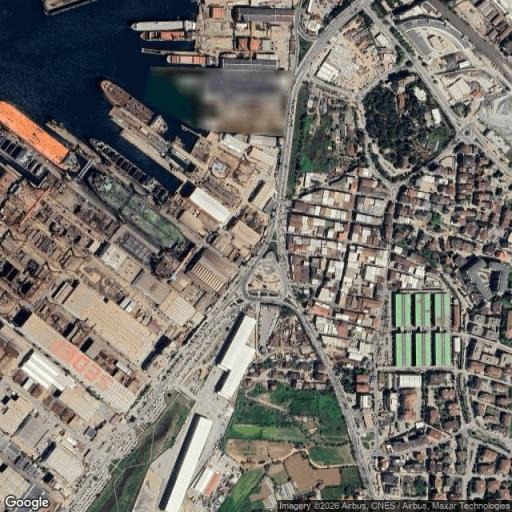ship: (89, 173, 189, 255), (0, 101, 79, 171), (90, 139, 167, 203), (101, 80, 167, 133), (131, 20, 195, 31), (167, 52, 215, 66), (140, 30, 191, 41)
